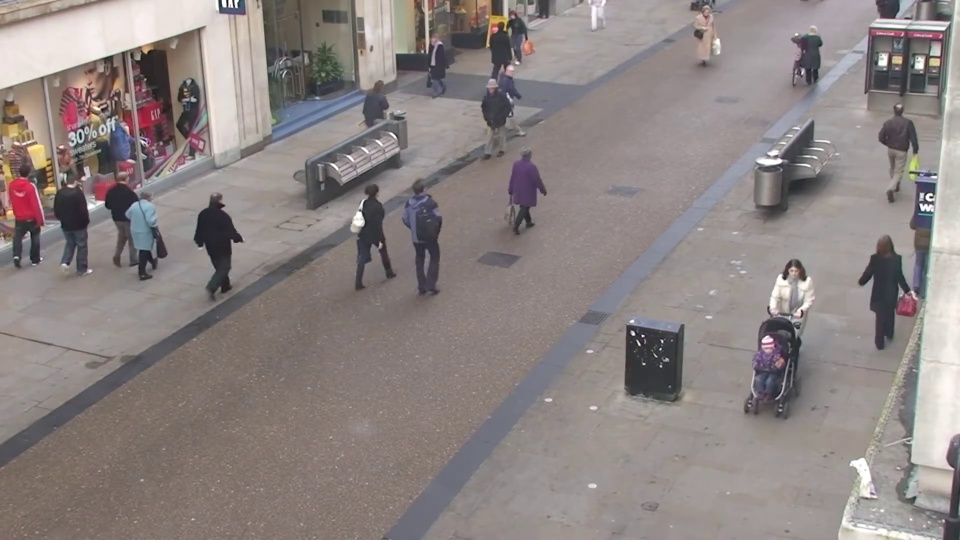pedestrian: (735, 331, 789, 483), (856, 226, 908, 352), (765, 254, 813, 387), (8, 158, 62, 263), (56, 166, 106, 273), (135, 179, 181, 289), (207, 179, 251, 289), (111, 163, 157, 268), (364, 172, 404, 283), (408, 171, 447, 282), (878, 92, 920, 185), (517, 137, 551, 239), (473, 81, 503, 168), (372, 76, 403, 160), (797, 21, 827, 93), (506, 61, 533, 141), (419, 30, 445, 102), (493, 16, 517, 83), (695, 4, 719, 71), (498, 8, 522, 74)
